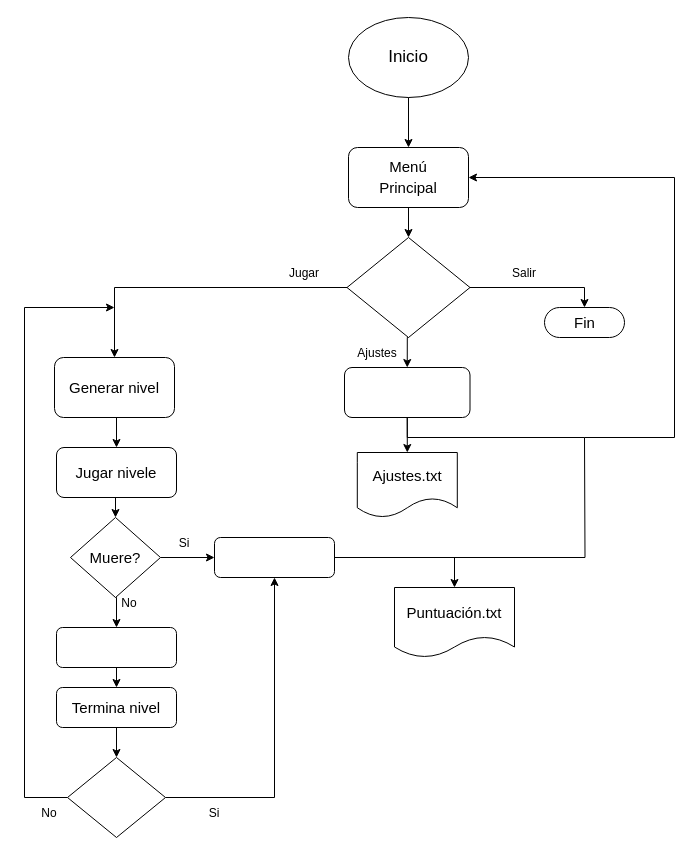
The diagram is 700 pixels wide and 855 high, and some of its shapes have lost their labels. Each missing label, with the centre of its shape:
Cambiar ajuste: (407,392)
Puntuación: (274,557)
Que desea hacer?: (408,287)
Seguir jugando: (116,647)
Último nivel: (116,797)
